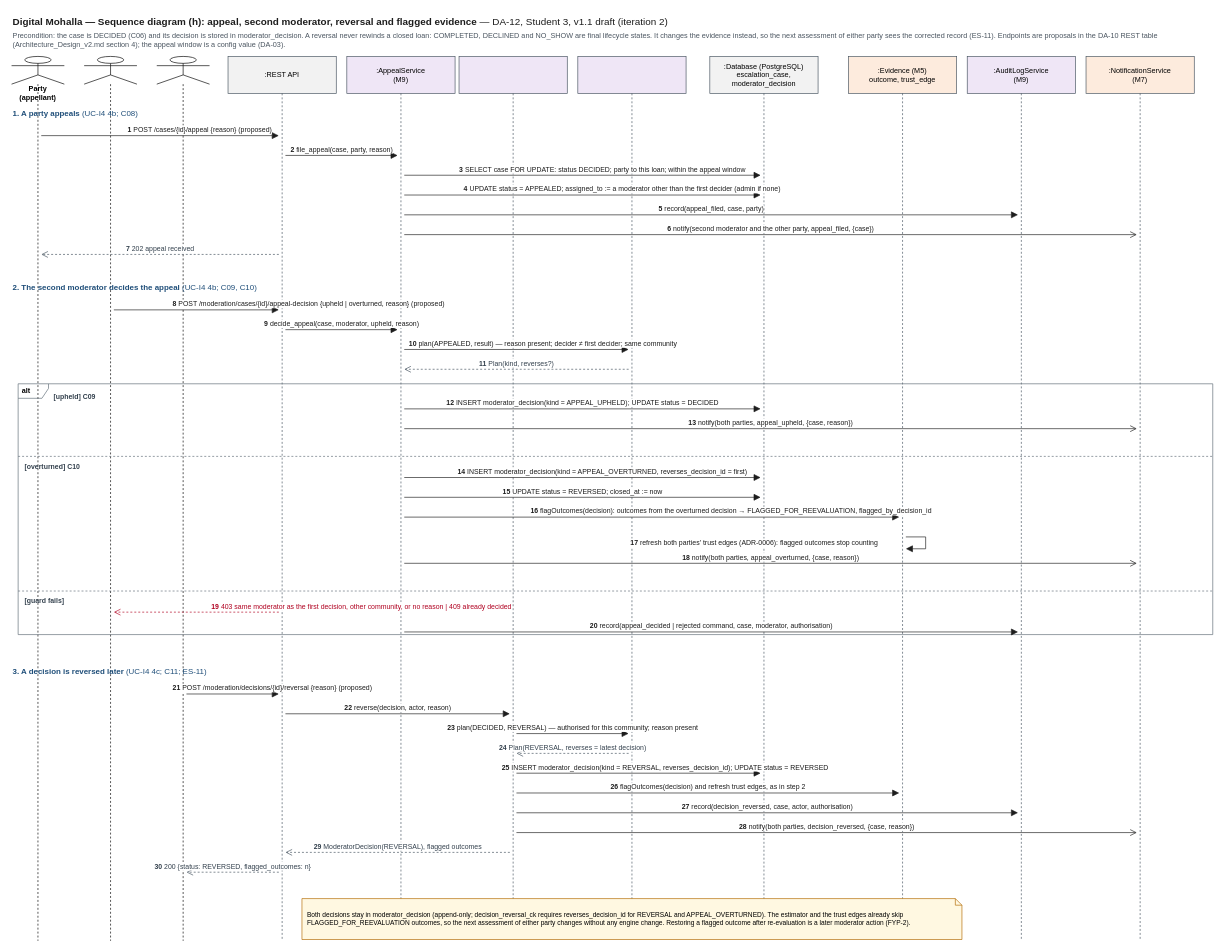
Some shapes in this 1225 by 952 pixel diagram are drawn without their labels. Each missing label, with the box of its shape:
:DecisionService (M9, decision rules): (577, 56, 686, 941)
:ReversalService (M9): (458, 56, 567, 941)
Moderator or admin: (156, 56, 210, 941)
Second moderator: (83, 56, 137, 941)
